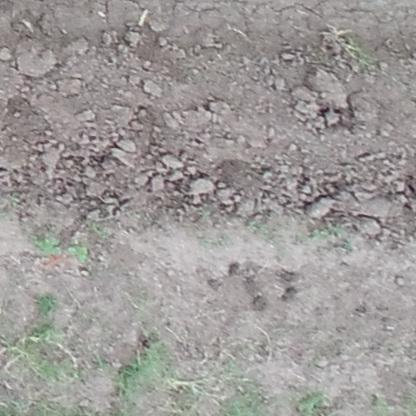vc: (69, 245, 90, 262)
